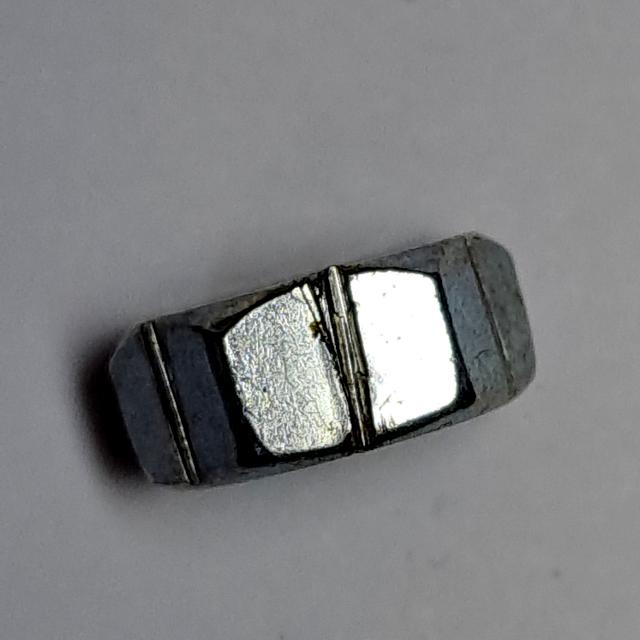Side_Scratches: (96, 226, 552, 506)
